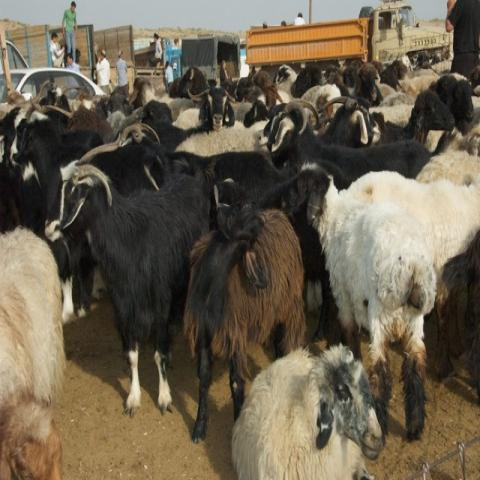car: (0, 66, 107, 104), (0, 39, 30, 74)
truck: (245, 4, 450, 78), (164, 41, 239, 79)
